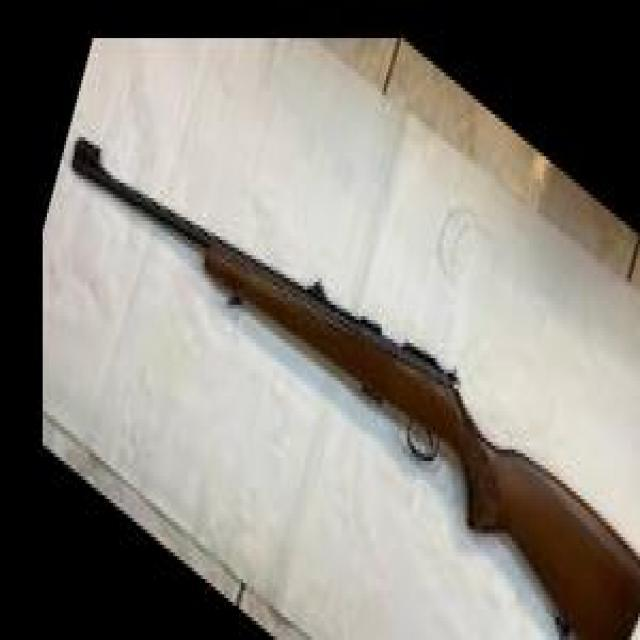weapon: (70, 134, 639, 640)
